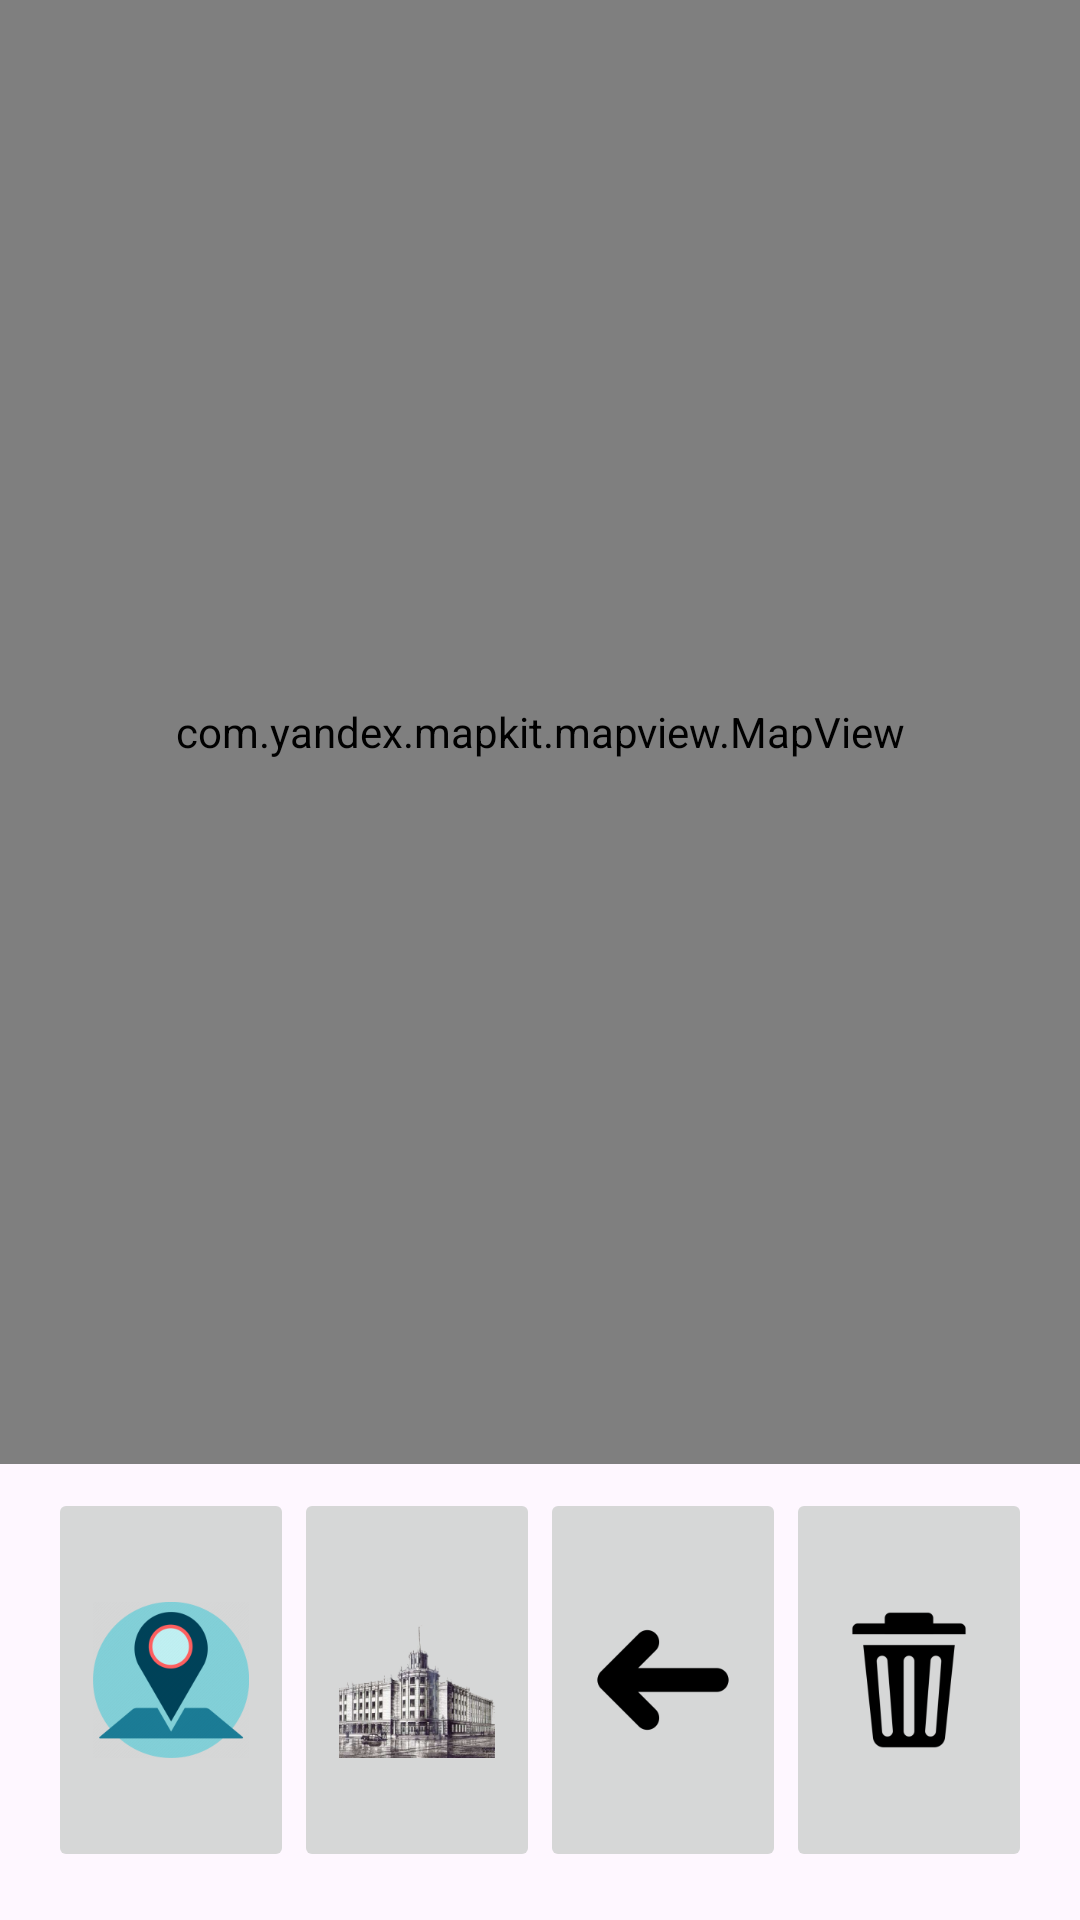

Icons on this 1080 x 1920 Android screen, each with its box as [x1, y1, x2, y2]:
back left: [552, 1506, 774, 1854]
current location: [60, 1506, 282, 1854]
delete: [798, 1506, 1020, 1854]
